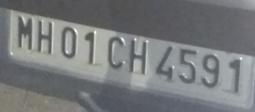0: (60, 24, 80, 61)
1: (225, 53, 247, 99), (82, 26, 99, 66)
4: (154, 42, 176, 82)
5: (178, 46, 200, 84)
9: (201, 51, 222, 90)
C: (105, 30, 128, 72)
H: (127, 36, 151, 77), (37, 14, 57, 57)
M: (13, 12, 35, 51)
